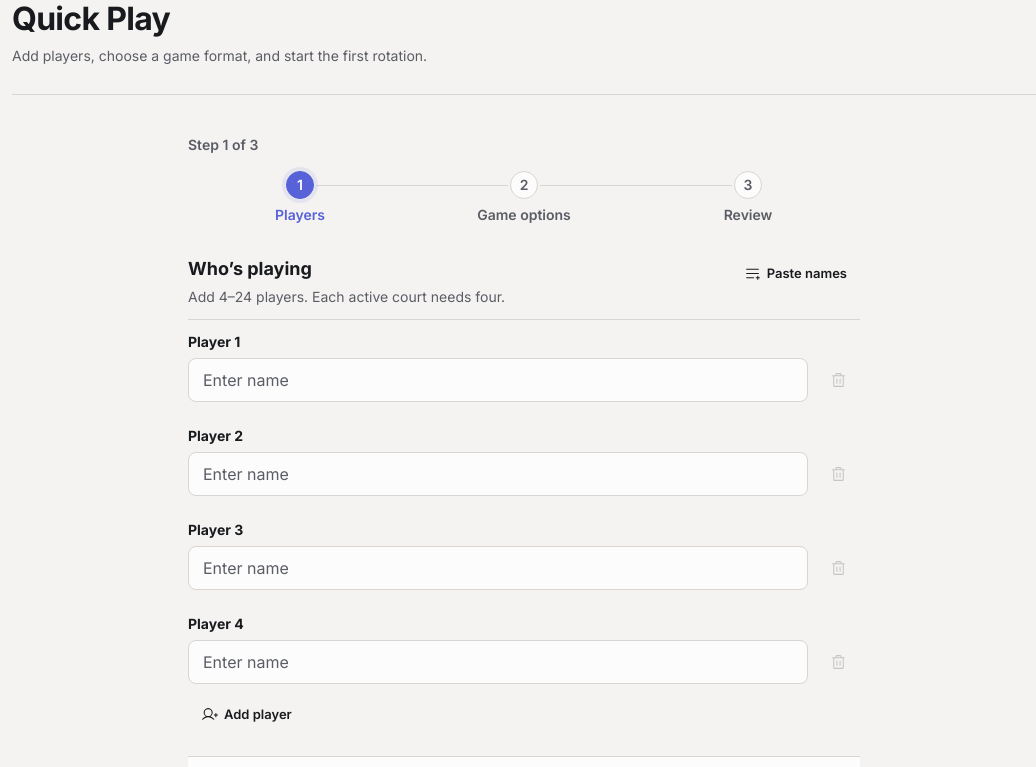
Test: PublicQuickPlay › requires a unique name for every player before game options
Type "Van" into the field labelled "Player 1" at (498, 380), box [188,358,808,402]
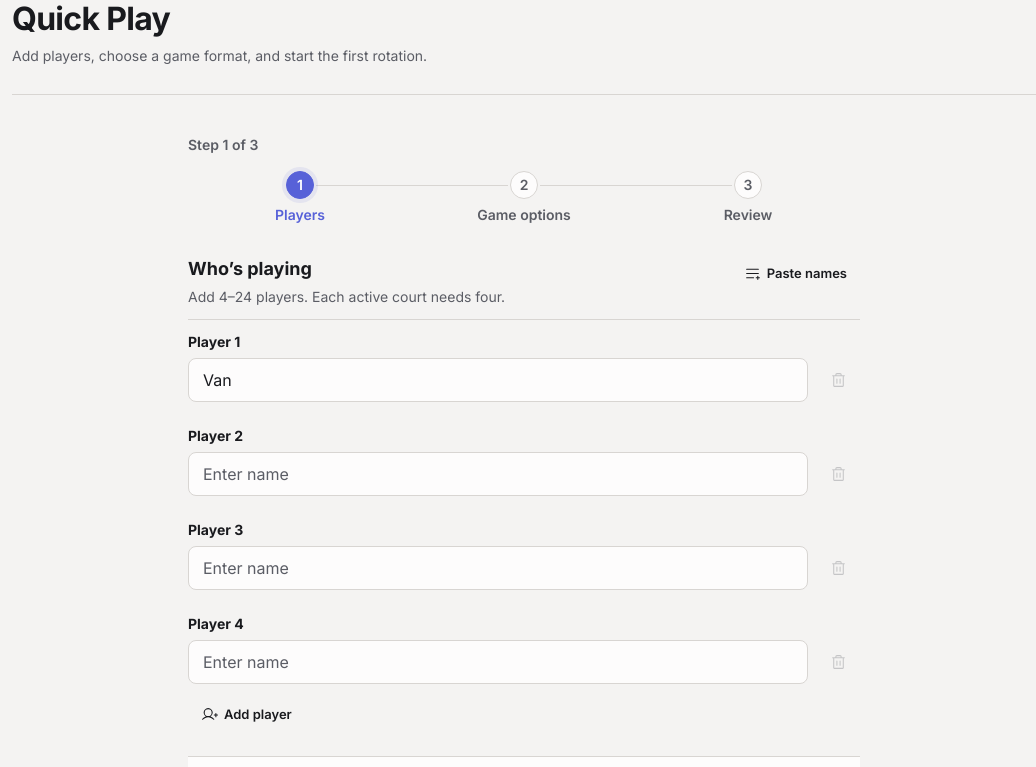
Type "van" into the field labelled "Player 2" at (498, 474), box [188,452,808,496]
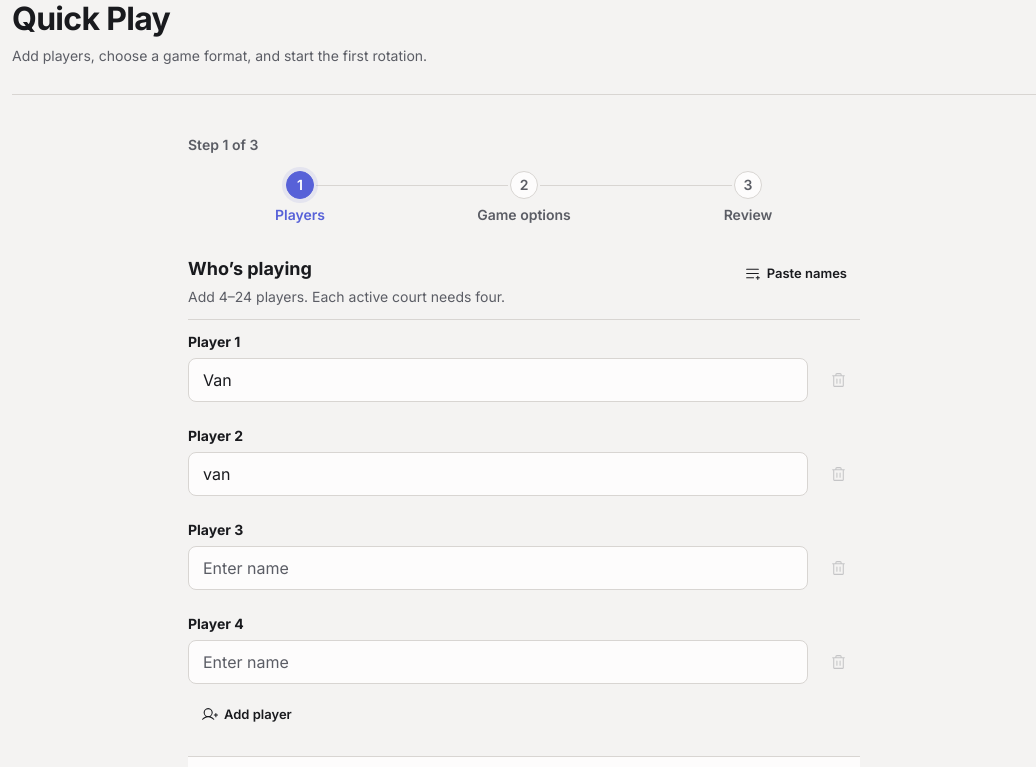
Type "Mika" into the field labelled "Player 3" at (498, 568), box [188,546,808,590]
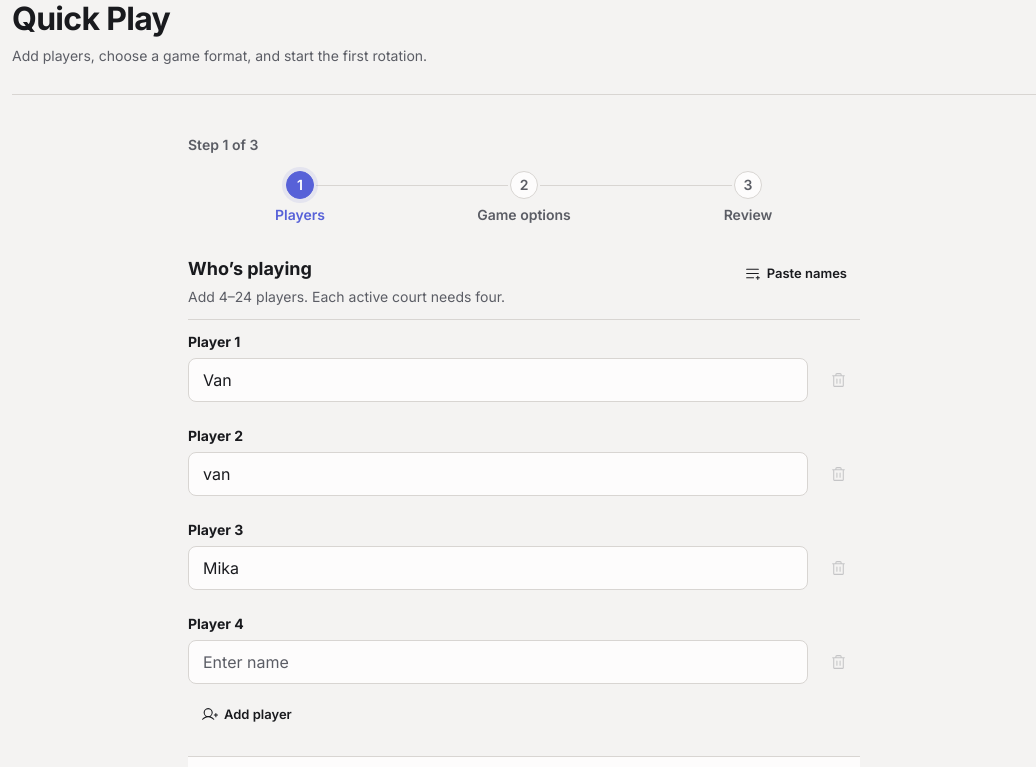
Clear the field labelled "Player 4" at (498, 662), box [188,640,808,684]
(page scrolled)
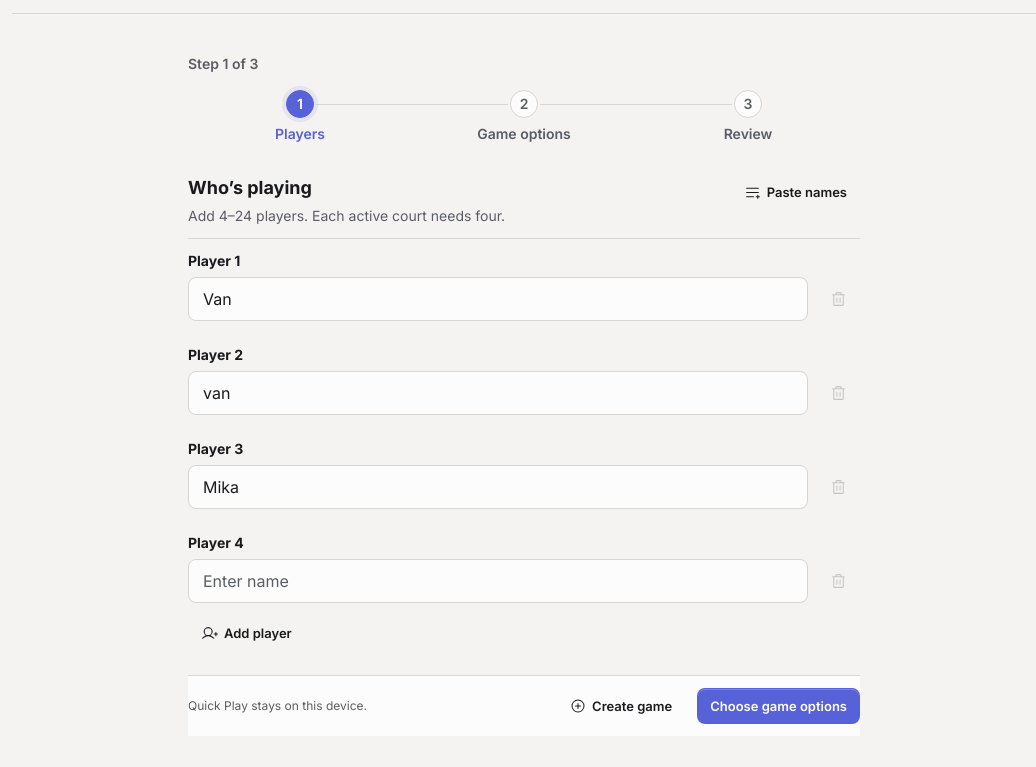
Click the button "Choose game options" at (779, 706), box [697,688,860,724]
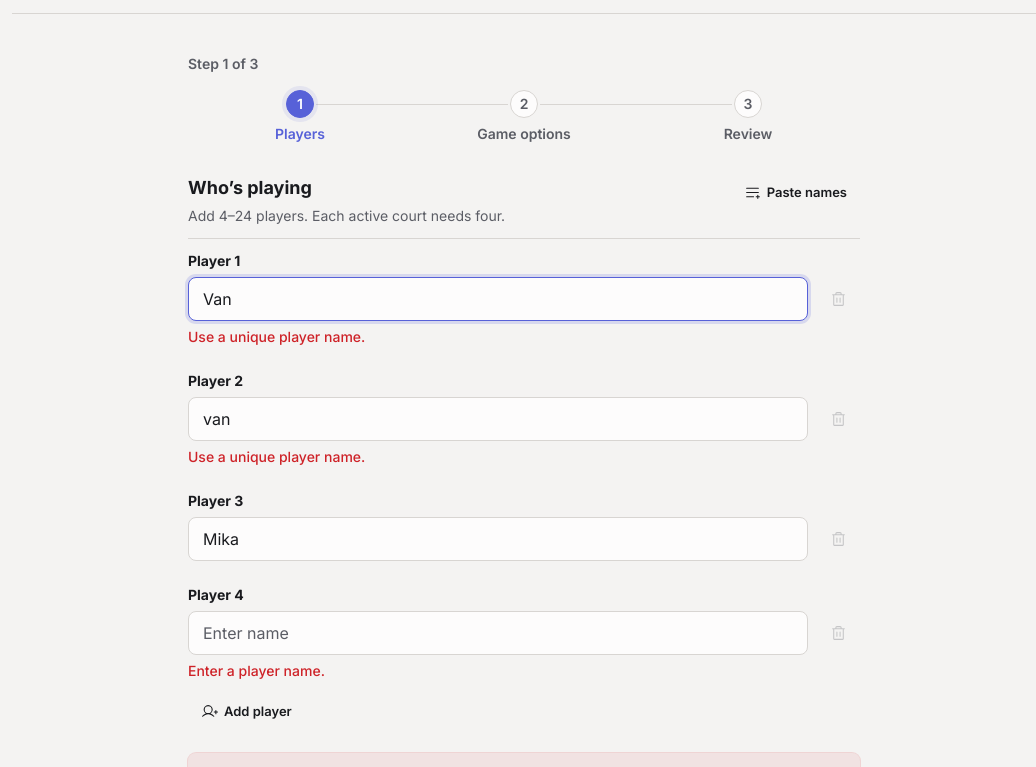
Check: the text "Use a unique player name." is shown 2 times, box [188,328,365,345]; [188,448,365,465]
Check: the text "Enter a player name." is shown, box [188,662,325,679]
